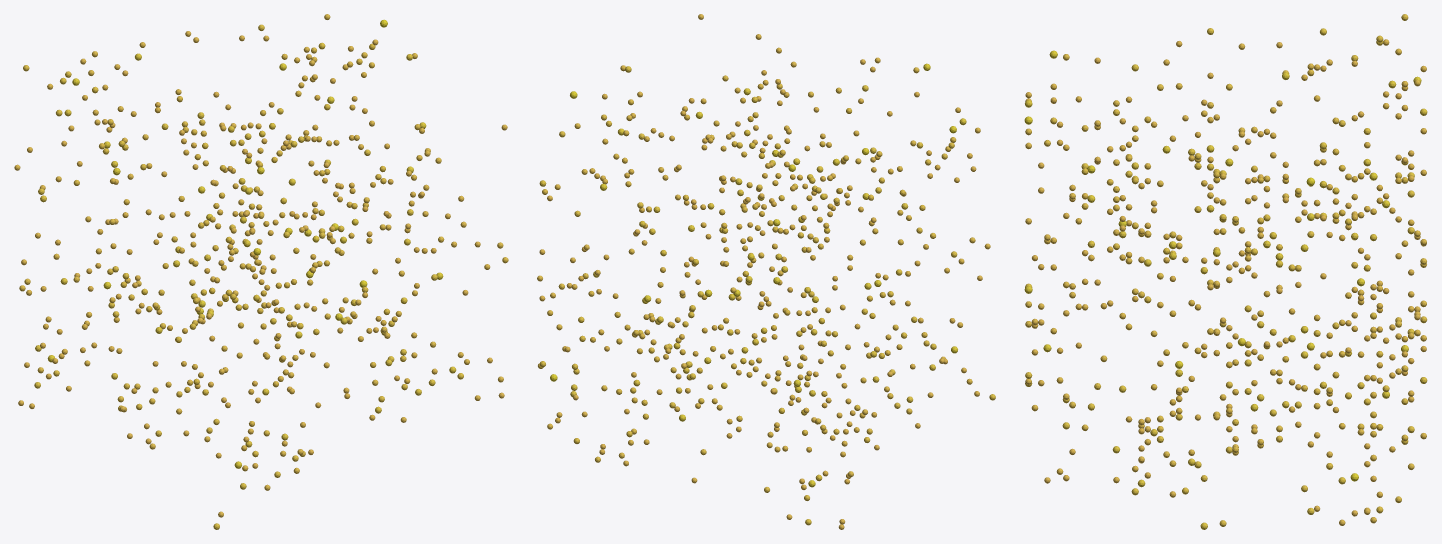
File: cosmic-web.glb
The picture shows the model from 3 angles, left to right: view 1: azimuth 30°, elevation 25°; view 2: azimuth 150°, elevation 25°; view 3: azimuth 270°, elevation 25°; orthographic projection. The views are drawn at different scales.
Parts seen in each view (by area): view 1: world; view 2: world; view 3: world.
Part boxes in pixels (x1,y1,x2,y2): world: (14, 14, 508, 529); world: (537, 14, 995, 529); world: (1024, 14, 1427, 529).
Size of the model in its own units: 64.28 by 64.27 by 64.27.
